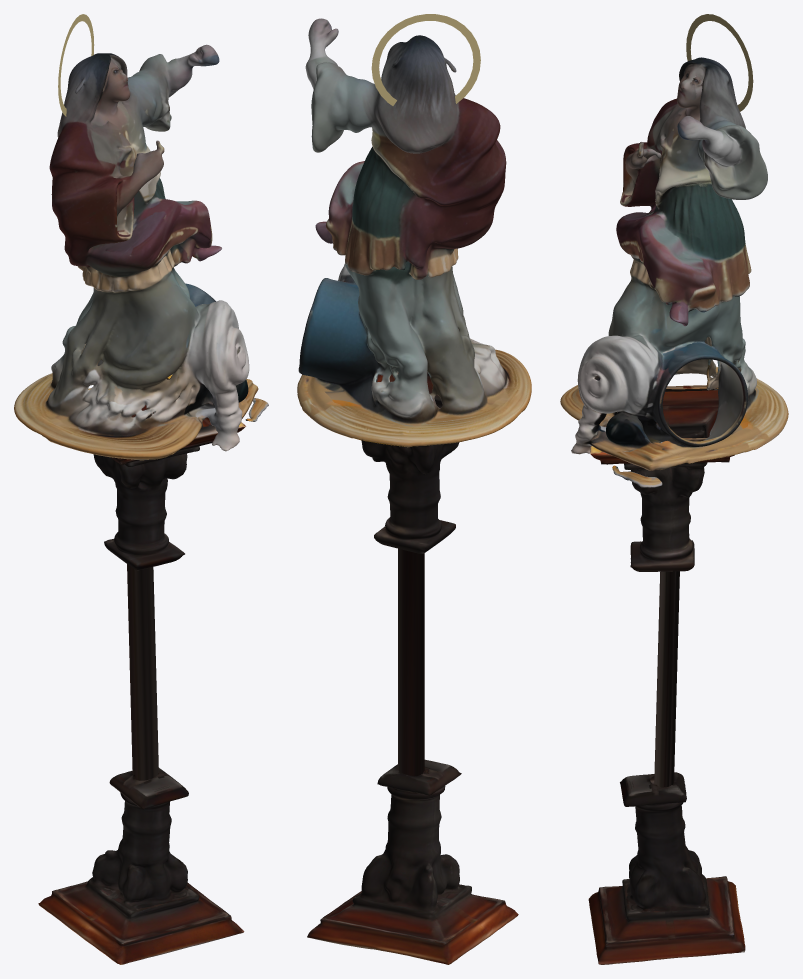
File: barbara.glb
3 views of the same model, side by side, from view 1: azimuth 30°, elevation 25°; view 2: azimuth 150°, elevation 25°; view 3: azimuth 270°, elevation 25° (orthographic). The views are drawn at different scales.
Parts seen in each view (by area): view 1: tripo_node_26624d63-57bf-4c92-8c92-70c198e4a688.001; view 2: tripo_node_26624d63-57bf-4c92-8c92-70c198e4a688.001; view 3: tripo_node_26624d63-57bf-4c92-8c92-70c198e4a688.001.
Part boxes in pixels (bbox=[...]): tripo_node_26624d63-57bf-4c92-8c92-70c198e4a688.001: bbox=[14, 14, 268, 964]; tripo_node_26624d63-57bf-4c92-8c92-70c198e4a688.001: bbox=[297, 14, 531, 964]; tripo_node_26624d63-57bf-4c92-8c92-70c198e4a688.001: bbox=[560, 14, 788, 964].
Bounding box in the file's own units: 1.19 × 4.66 × 1.07.
3 materials, 2 textured.
